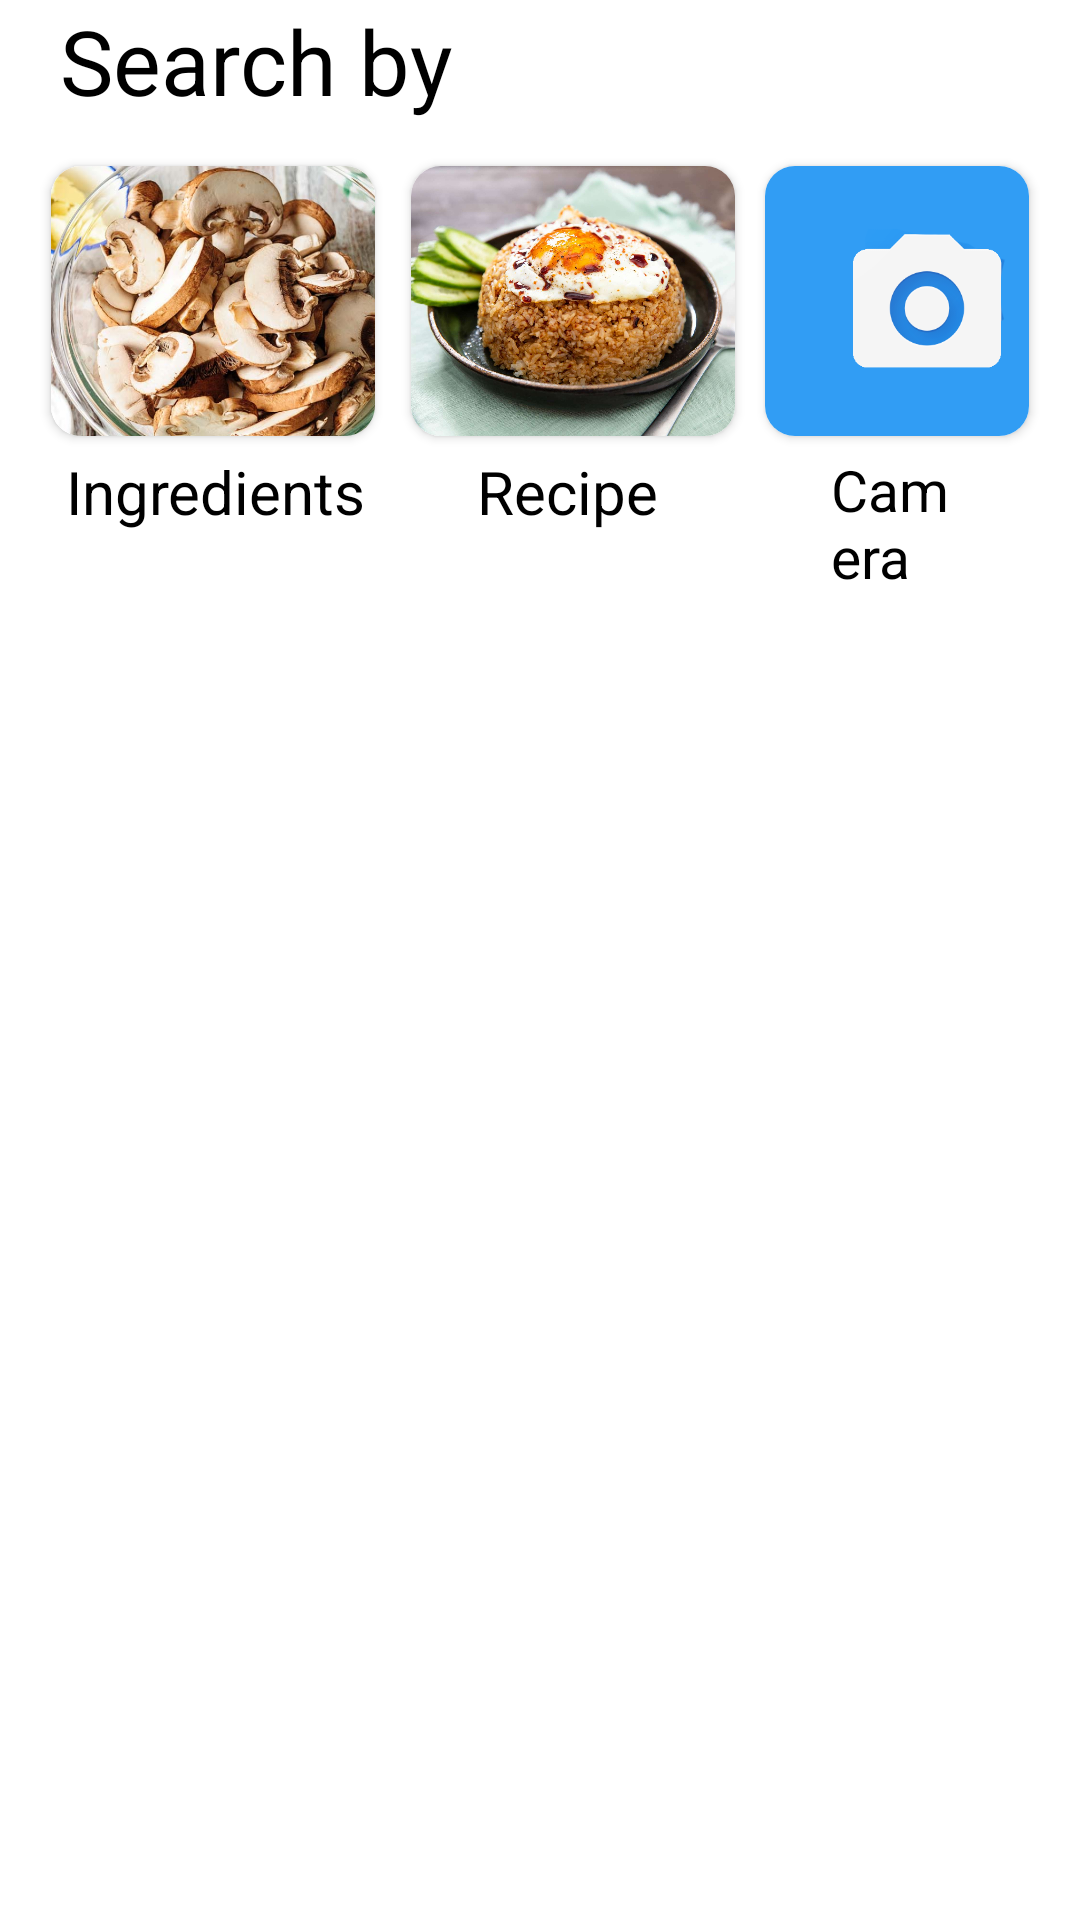

Named icons in this screenshot (1080px×1920px) and their bounding boxes, (x1, y1, x2, y2):
home nasi goreng: (411, 166, 735, 436)
mashroom: (51, 166, 375, 436)
